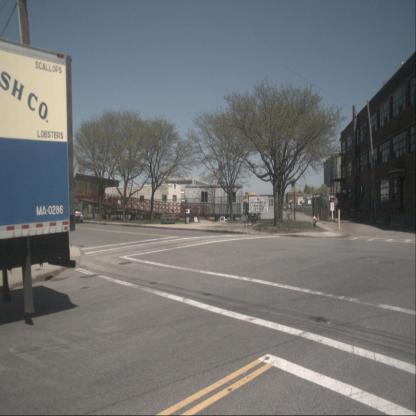movable_object-barrier: (389, 214, 406, 231), (377, 213, 388, 226)
movable_object-trafficcone: (317, 213, 320, 221)
vehicle-car: (66, 208, 84, 224)
